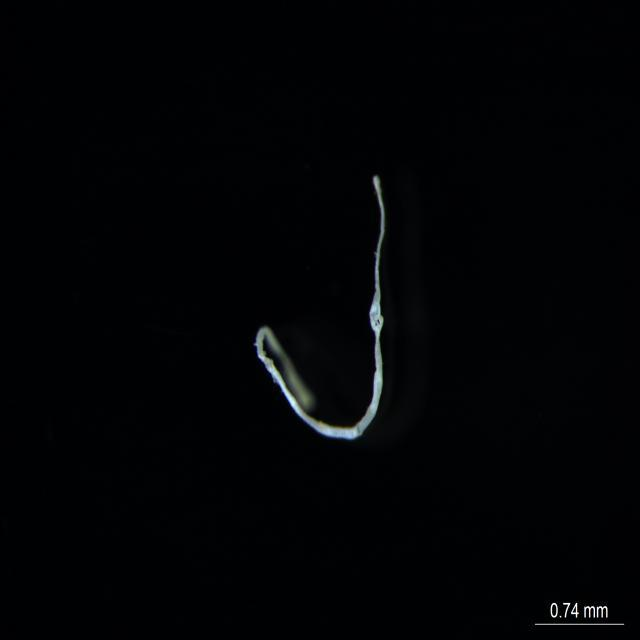fibers: (253, 173, 386, 440)
